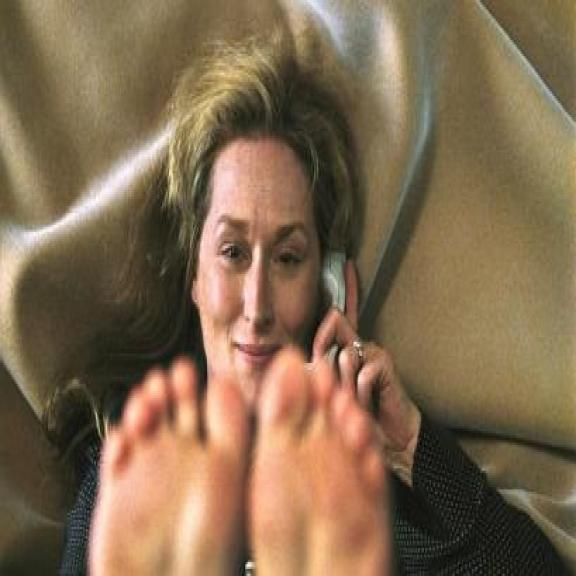face: (188, 126, 330, 409)
